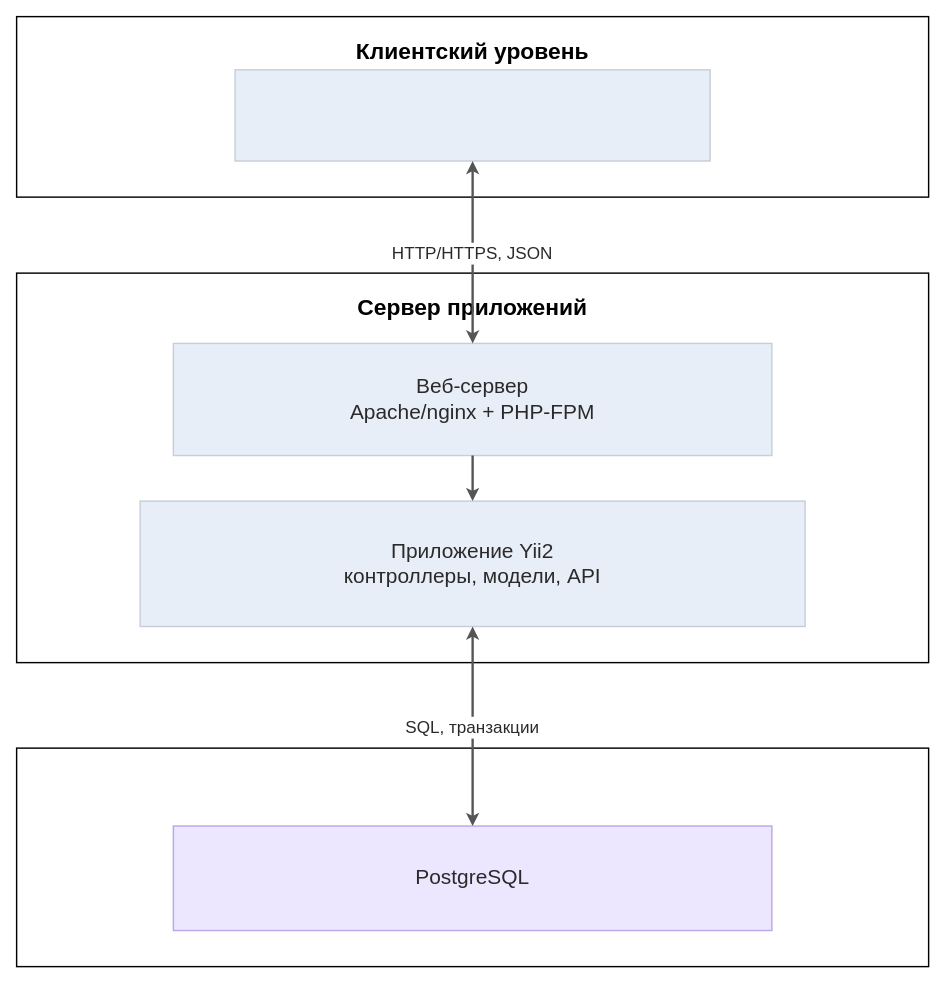
Image size: 946x984. Some labels were removed from this diagram. Here are the shapes that lost their labels. From the top down, the box of each, then its label:
(234, 69, 710, 161): Веб-браузер AG Grid и формы
(15, 747, 929, 967): Слой данных
